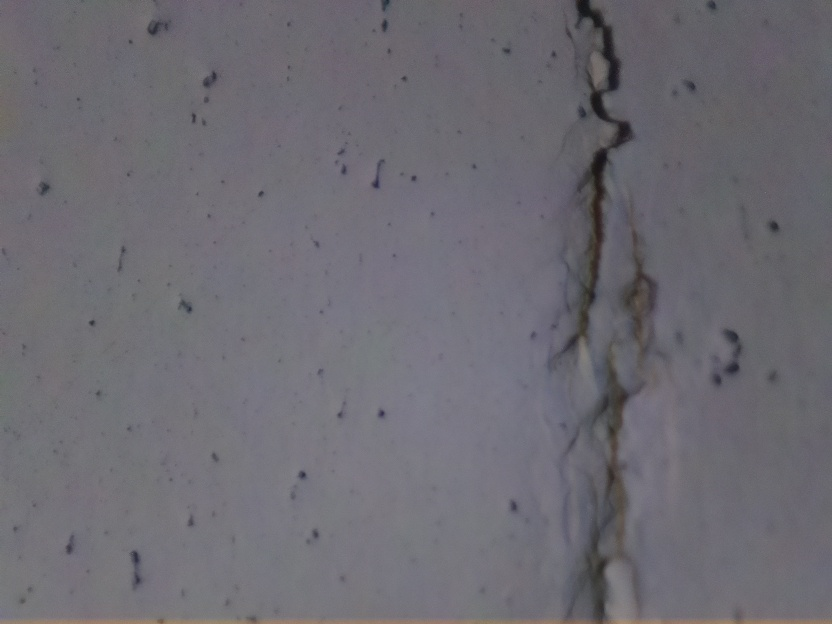crack: (540, 0, 637, 356), (578, 289, 635, 624)
